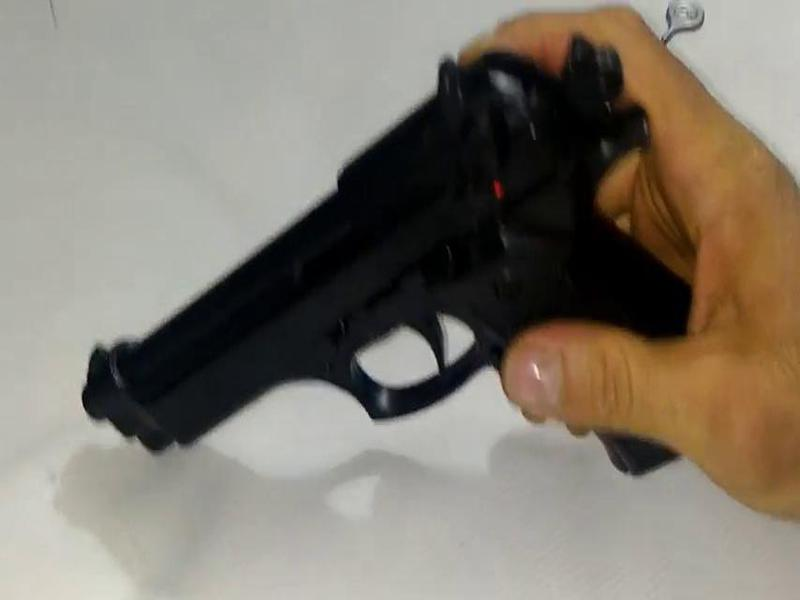Pistola: (80, 51, 730, 538)
